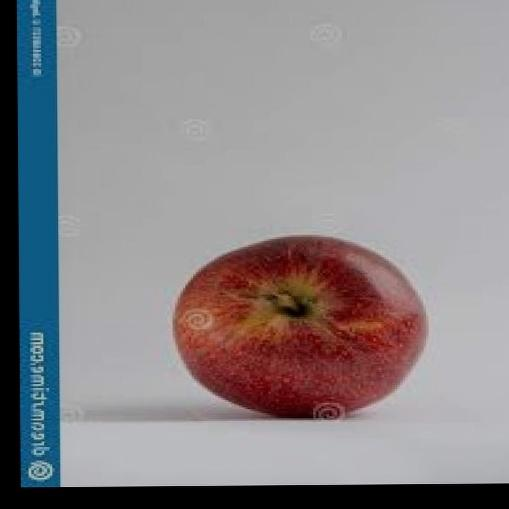red apple: (166, 230, 434, 419)
